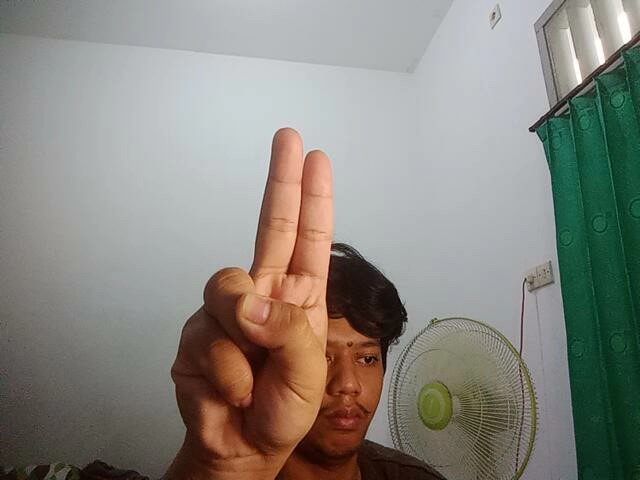U: (154, 112, 336, 464)
